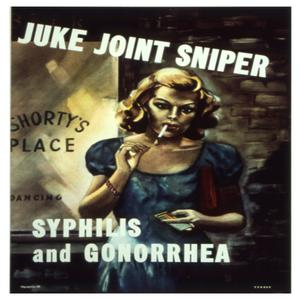cigarette: (152, 125, 168, 148)
